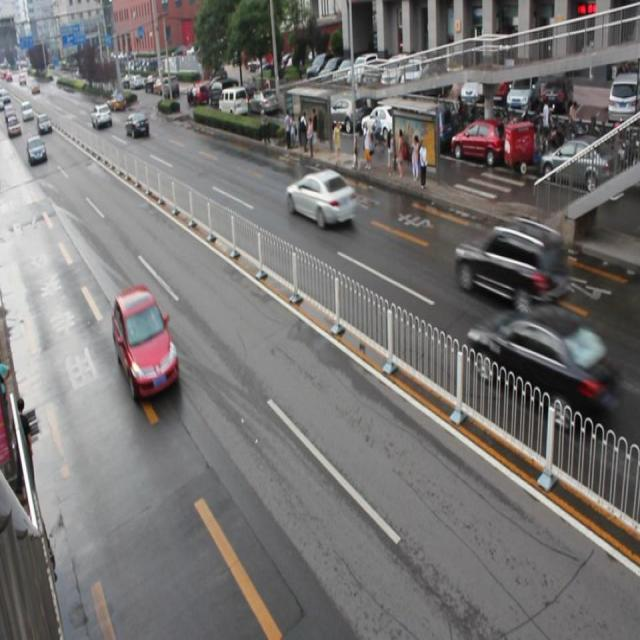car: (466, 306, 616, 420), (452, 221, 568, 309), (111, 288, 178, 397), (284, 167, 355, 229), (127, 114, 151, 137)
